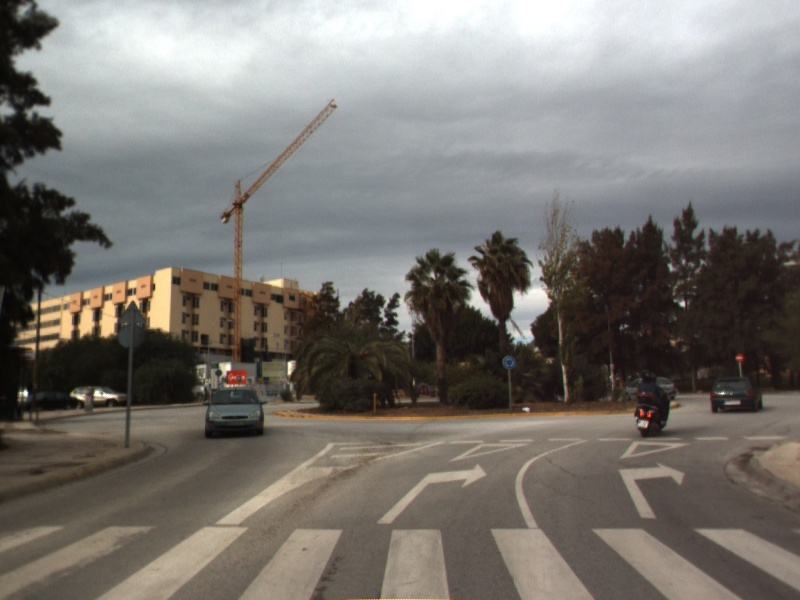RIGHT: (375, 462, 489, 526), (616, 460, 687, 520)
